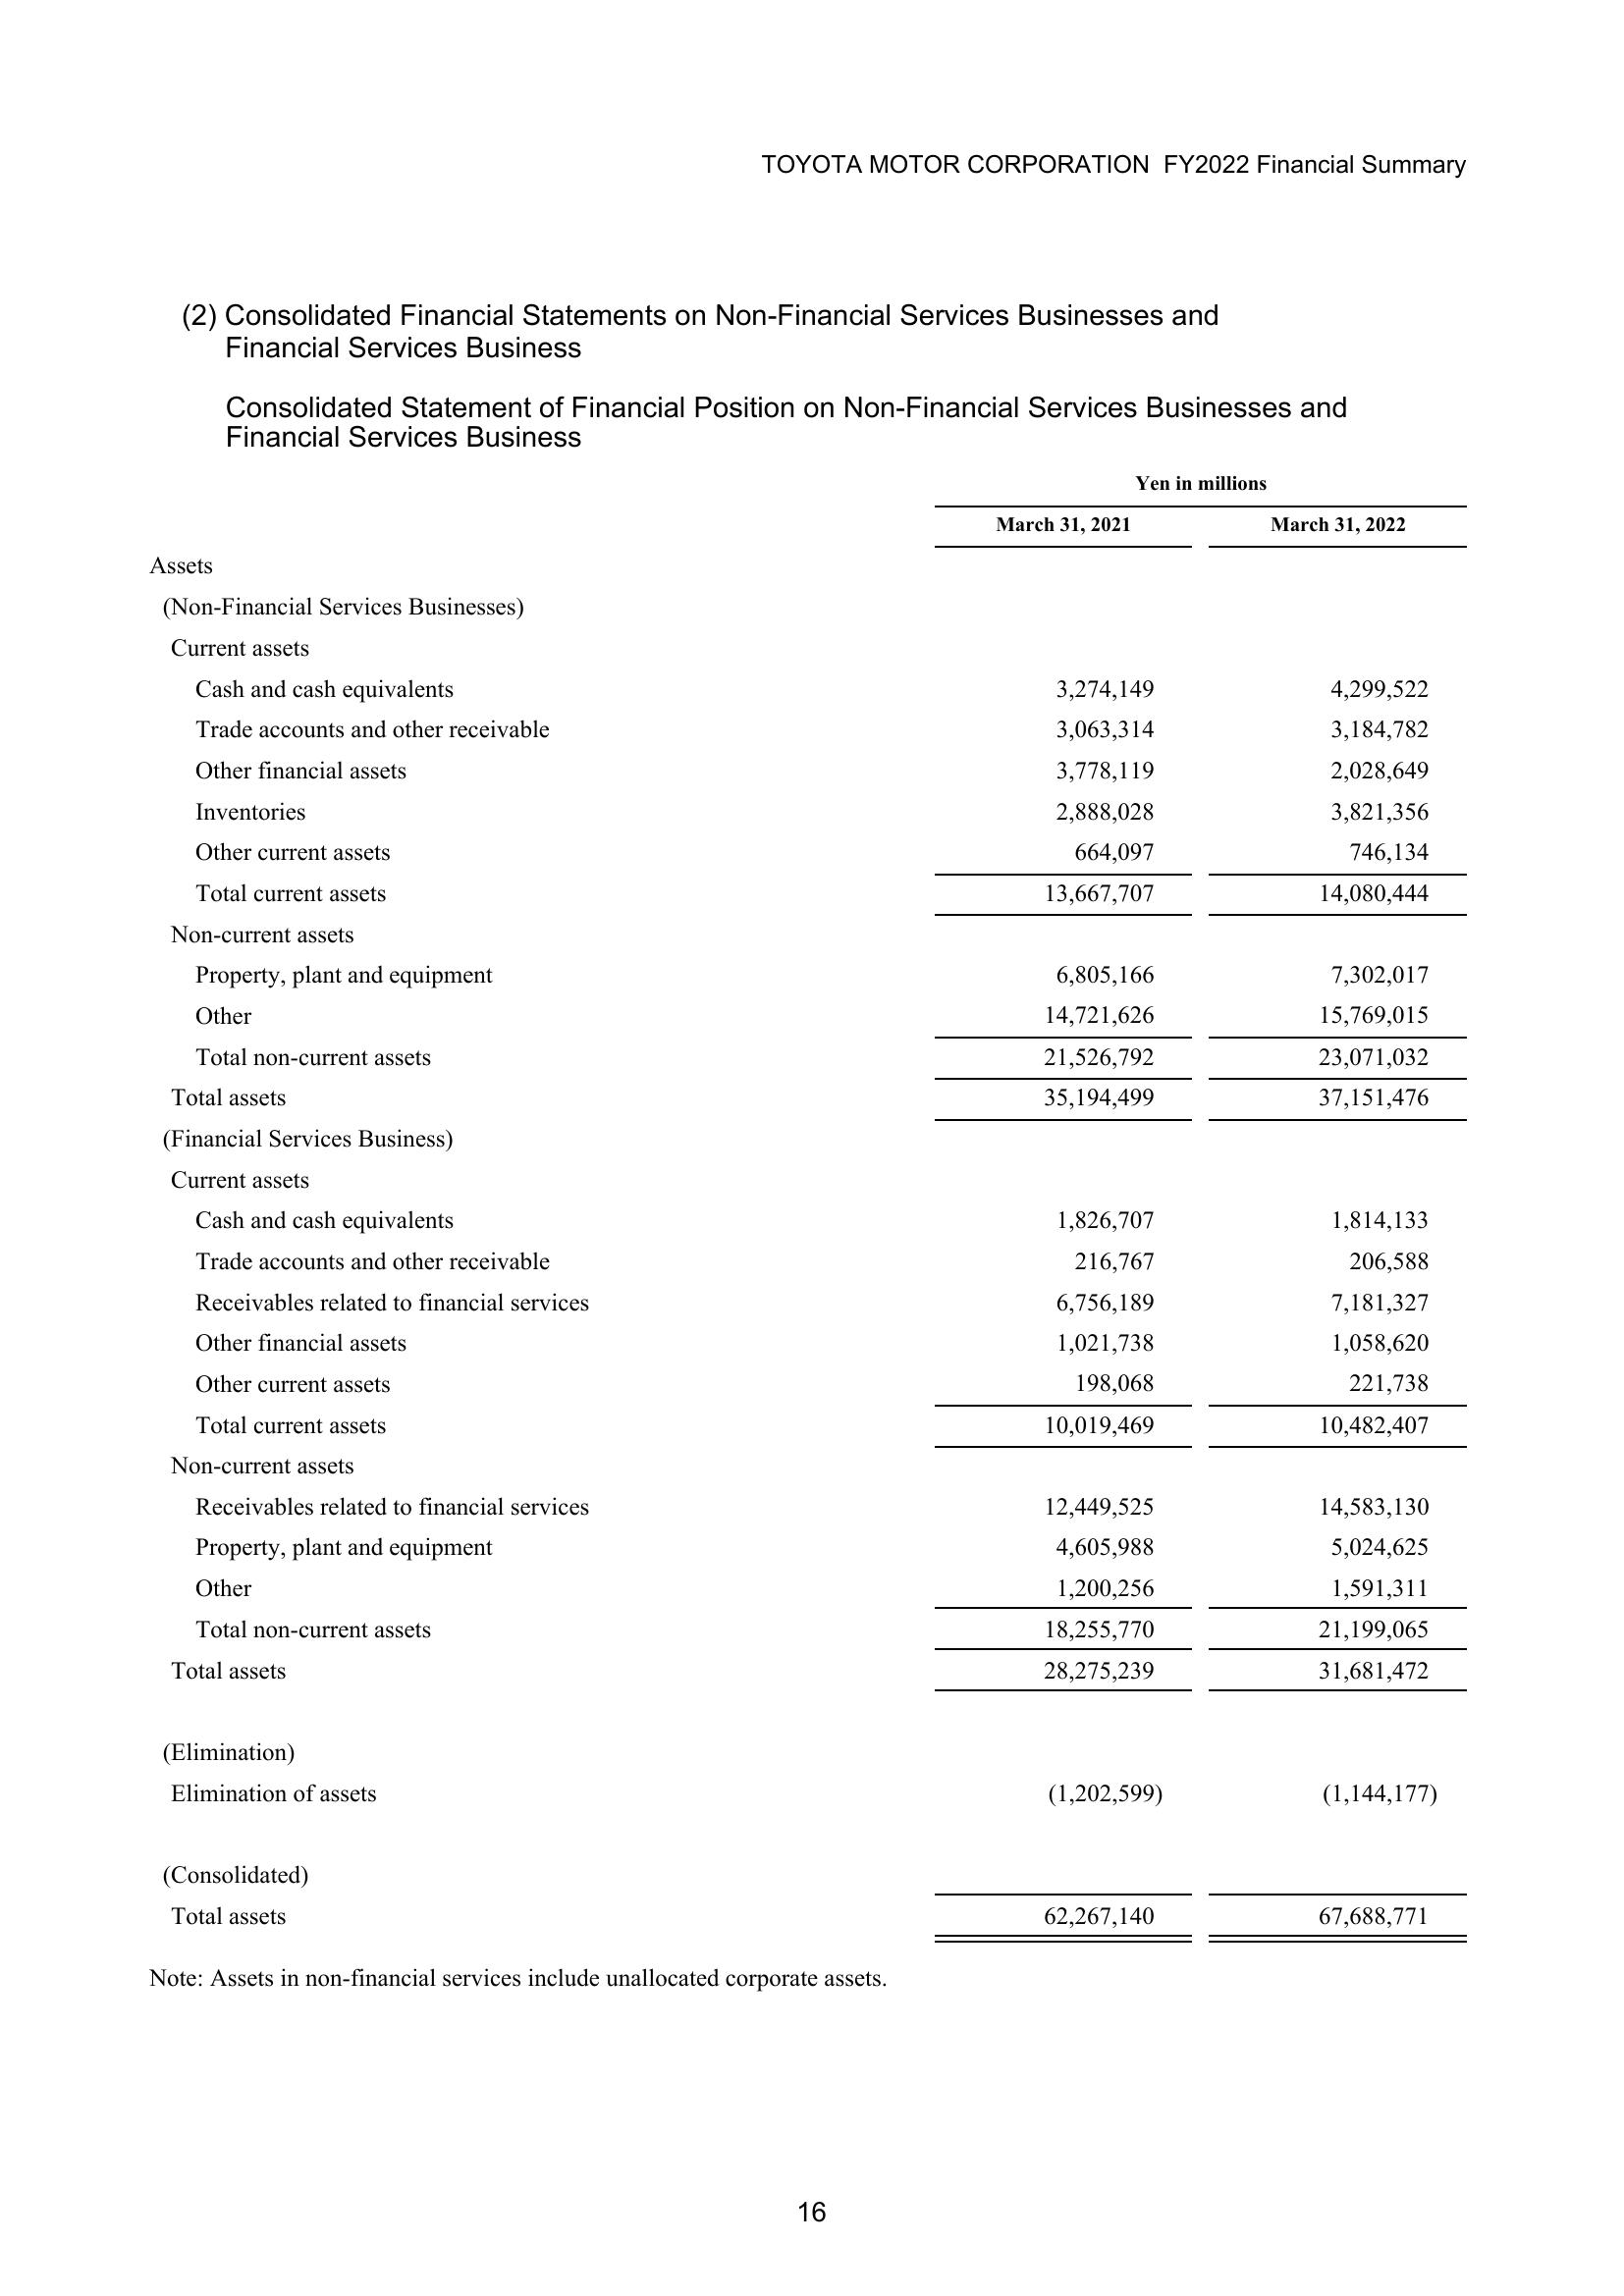Footer: (0, 2157, 1624, 2296)
Header: (0, 0, 1624, 220)
Table: (69, 453, 1475, 1966)
